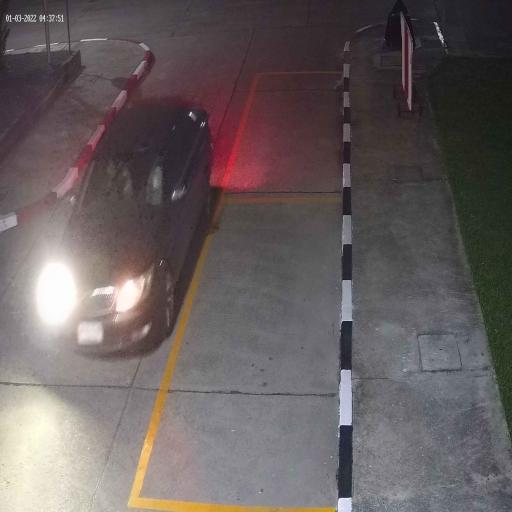car: (44, 100, 214, 356)
